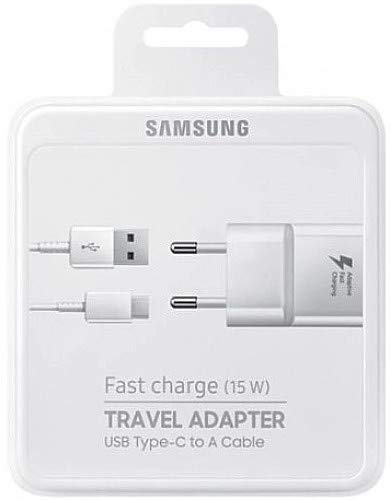(15: (220, 372, 247, 403)
A: (208, 436, 217, 448)
ADAPTER: (188, 410, 285, 428)
Cable: (221, 436, 265, 448)
Fast: (106, 376, 144, 394)
SAMSUNG: (146, 120, 249, 136)
TRAVEL: (104, 410, 182, 428)
Type-C: (133, 436, 186, 451)
USB: (105, 436, 129, 448)
\: (370, 116, 378, 132)
charge: (151, 376, 269, 399)
to: (190, 437, 204, 448)
w): (254, 372, 273, 403)
|: (378, 269, 379, 312), (378, 328, 379, 363)
